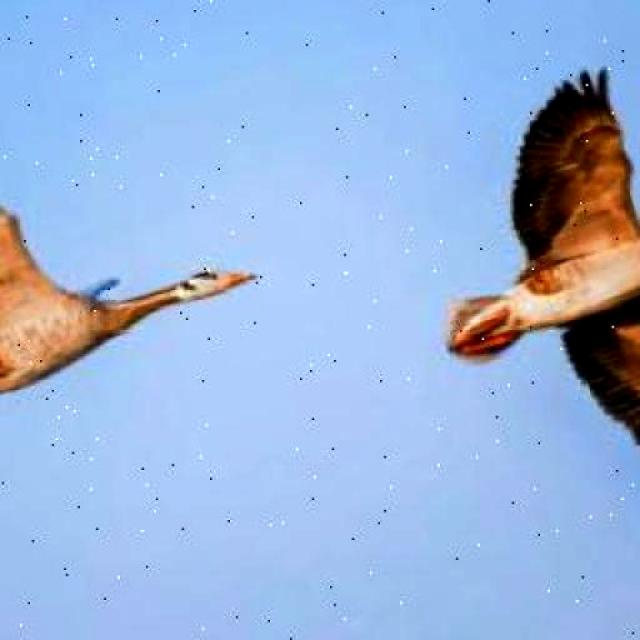airplane: (385, 14, 640, 574), (0, 68, 275, 448)
